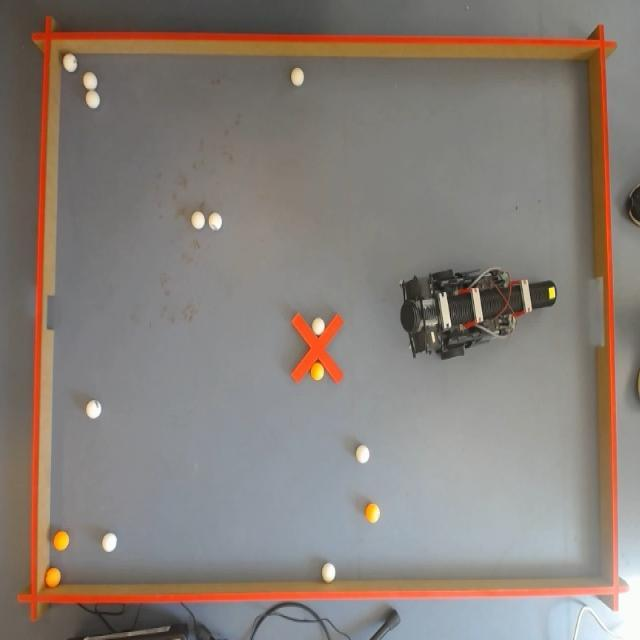orange: (53, 532, 71, 552), (44, 571, 64, 588), (310, 359, 322, 382), (368, 503, 381, 523)
robot: (404, 260, 560, 359)
white: (101, 533, 118, 556), (86, 89, 100, 109), (84, 72, 98, 92), (86, 399, 100, 418), (322, 563, 334, 585), (210, 212, 223, 232), (192, 211, 205, 231), (292, 66, 304, 87), (62, 54, 76, 72), (358, 444, 370, 464), (312, 314, 322, 334)
